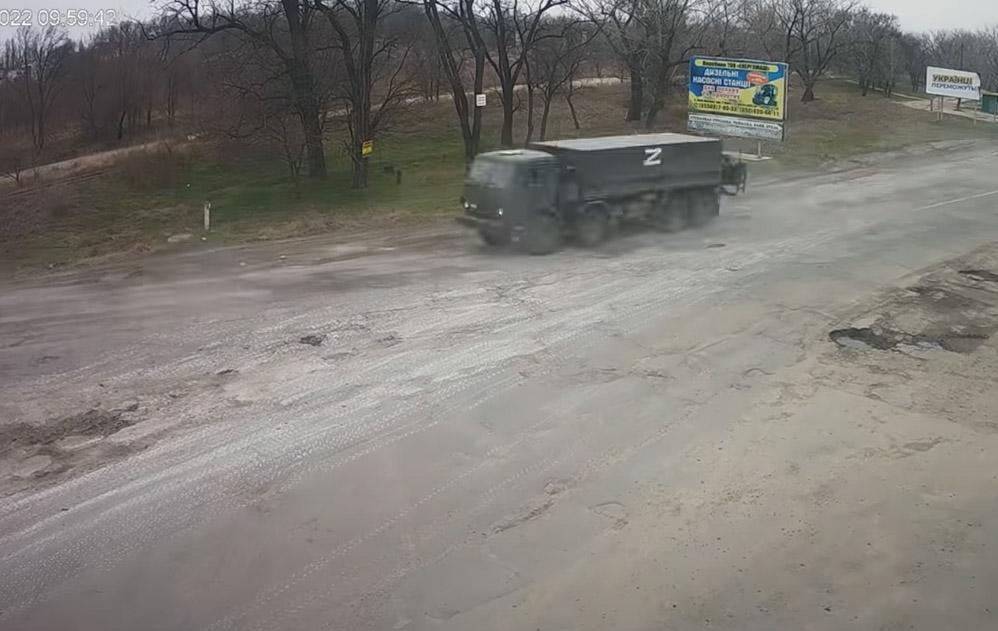truck: (457, 128, 729, 254)
